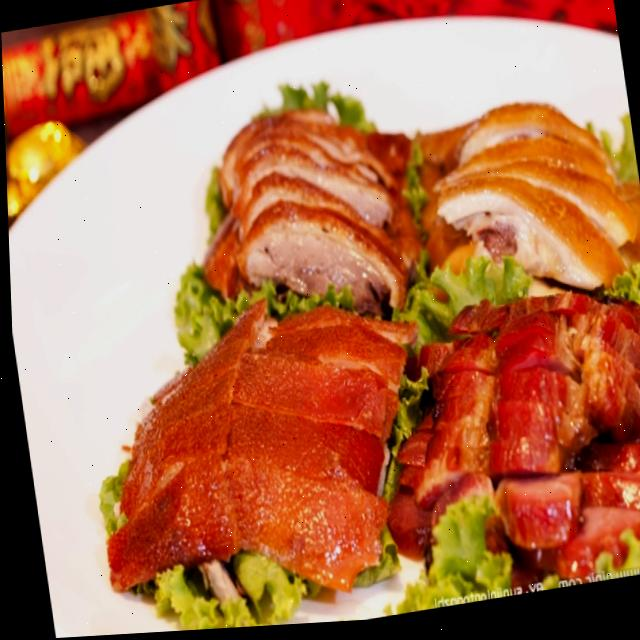烧串烤肉: (18, 3, 640, 639)
